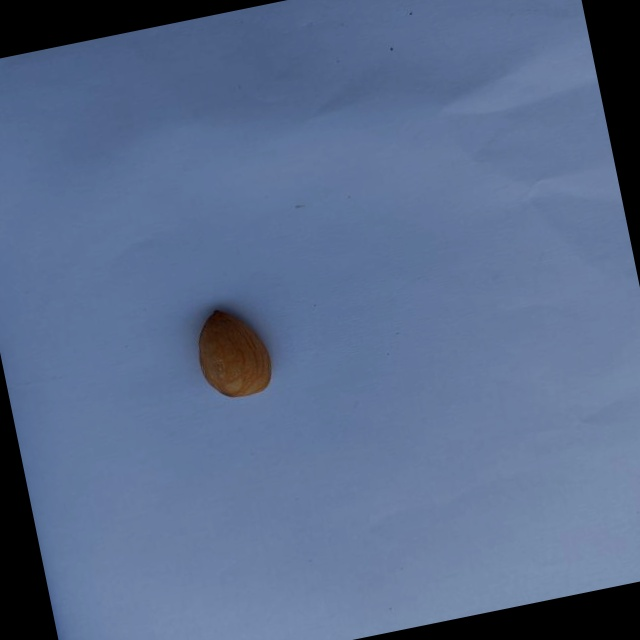grade2: (187, 298, 284, 408)
